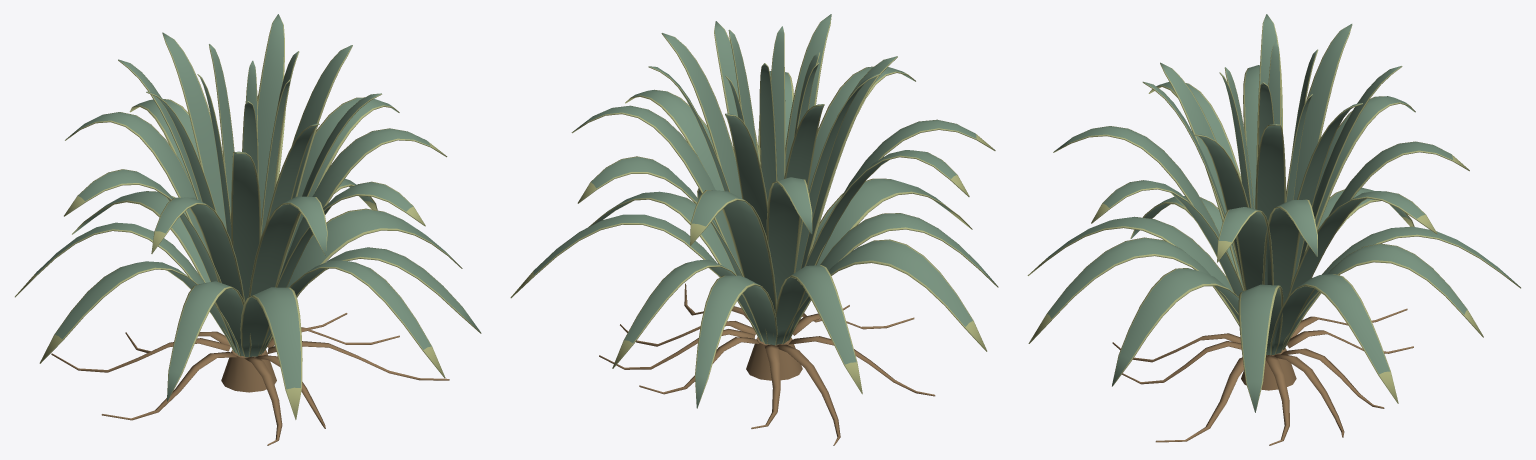
Rendered from activity-yucca.glb.
3 renders of one model, left to right at view 1: azimuth 30°, elevation 25°; view 2: azimuth 150°, elevation 25°; view 3: azimuth 270°, elevation 25°, orthographic.
Parts seen in each view (by area): view 1: activity-agave + activity-agave-edge, wood; view 2: activity-agave + activity-agave-edge, wood; view 3: activity-agave + activity-agave-edge, wood.
Boxes of the visible parts, box(x1,y1,x2,y2) form: activity-agave + activity-agave-edge: box(15, 14, 481, 419); wood: box(51, 313, 449, 445); activity-agave + activity-agave-edge: box(510, 14, 998, 408); wood: box(599, 283, 935, 445); activity-agave + activity-agave-edge: box(1027, 14, 1520, 412); wood: box(1112, 308, 1413, 445).
Bounding box in the file's own units: 0.8768 × 0.6497 × 0.9034.
